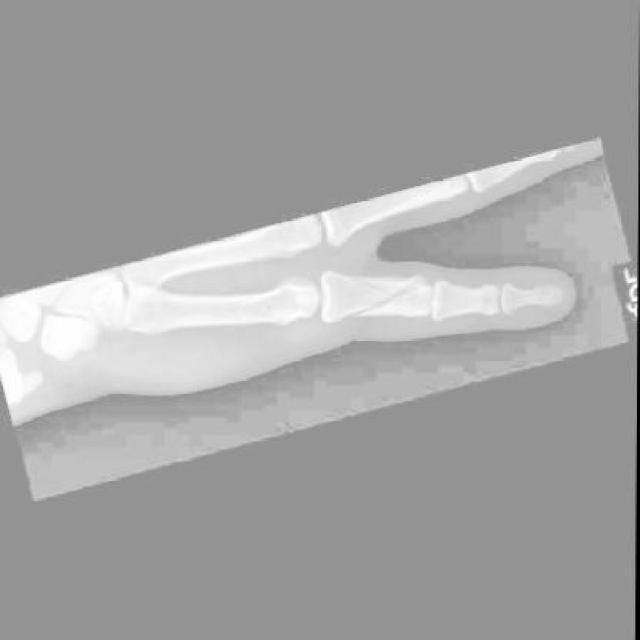Fracture: (342, 259, 438, 328)
